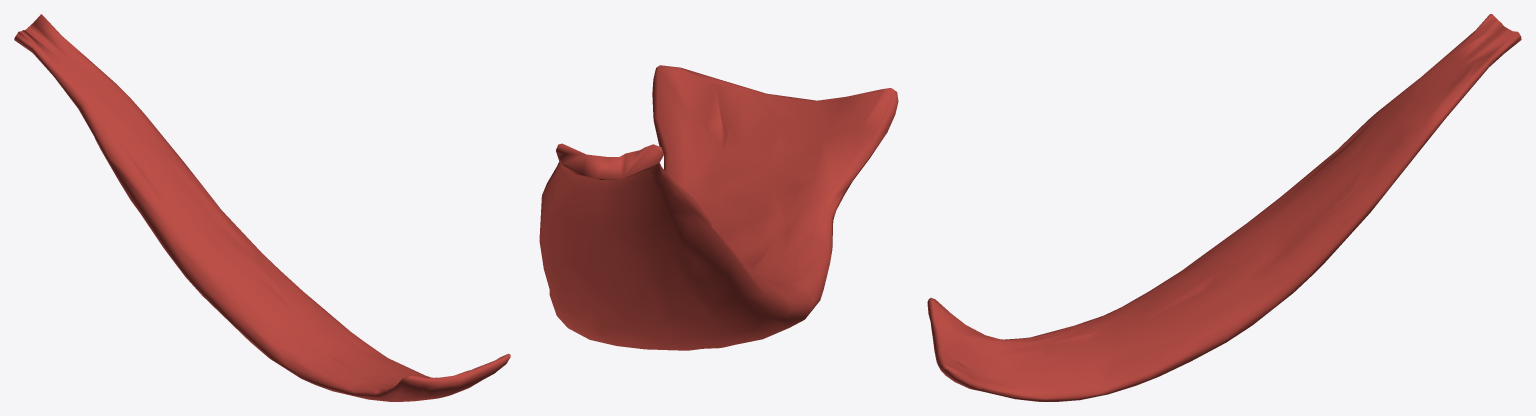
File: musculos-inferior-rectus-muscle-l.glb
3 renders of one model, left to right at view 1: azimuth 30°, elevation 25°; view 2: azimuth 150°, elevation 25°; view 3: azimuth 270°, elevation 25°, orthographic. The views are drawn at different scales.
Parts seen in each view (by area): view 1: Inferior rectus muscle.l; view 2: Inferior rectus muscle.l; view 3: Inferior rectus muscle.l.
Boxes of the visible parts, x1=… form: Inferior rectus muscle.l: x1=14, y1=14, x2=510, y2=401; Inferior rectus muscle.l: x1=539, y1=65, x2=898, y2=350; Inferior rectus muscle.l: x1=927, y1=14, x2=1521, y2=401.
Size of the model in its own units: 0.0222 by 0.0218 by 0.0414.
